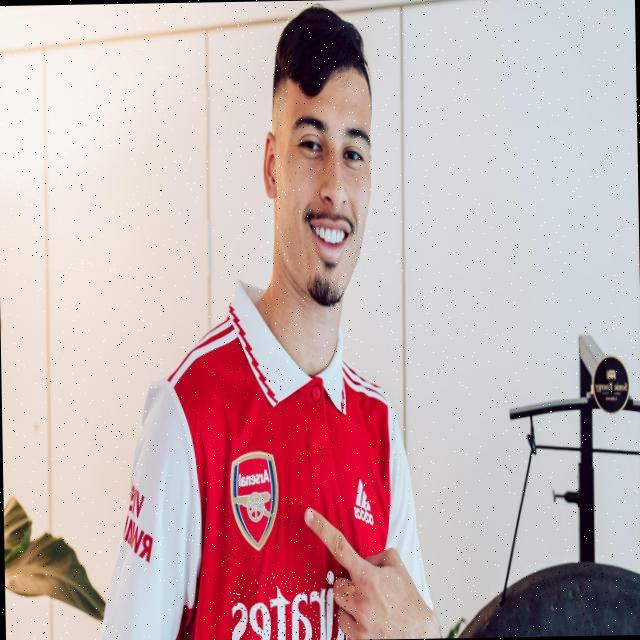Adidas: (352, 477, 373, 526)
Emirates: (229, 569, 349, 640)
